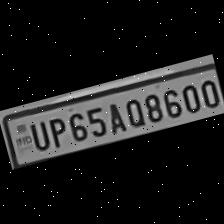0: (194, 75, 222, 112), (176, 80, 202, 116)
5: (80, 103, 110, 140)
6: (62, 108, 90, 146), (158, 85, 184, 122)
8: (139, 89, 166, 126)
A: (101, 98, 128, 137)
P: (43, 114, 70, 150)
Q: (119, 94, 147, 131)
U: (22, 118, 51, 155)
